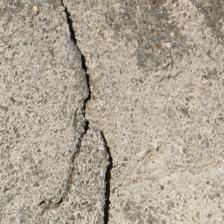Crack: (3, 73, 93, 157), (25, 31, 70, 92), (94, 93, 128, 116)
